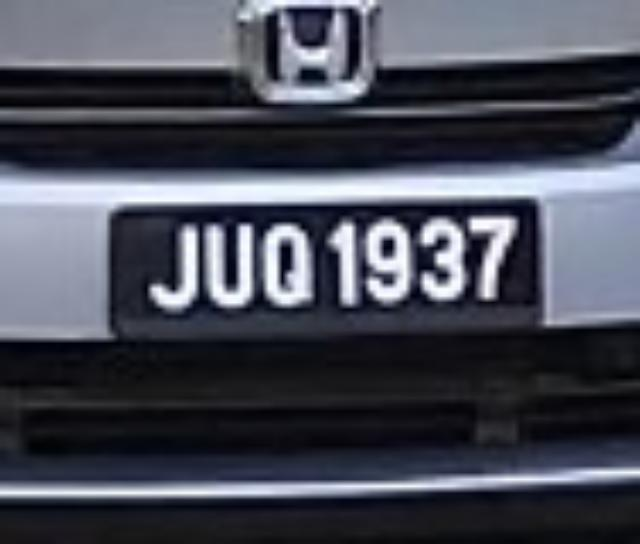License_Plate: (110, 196, 546, 346)
